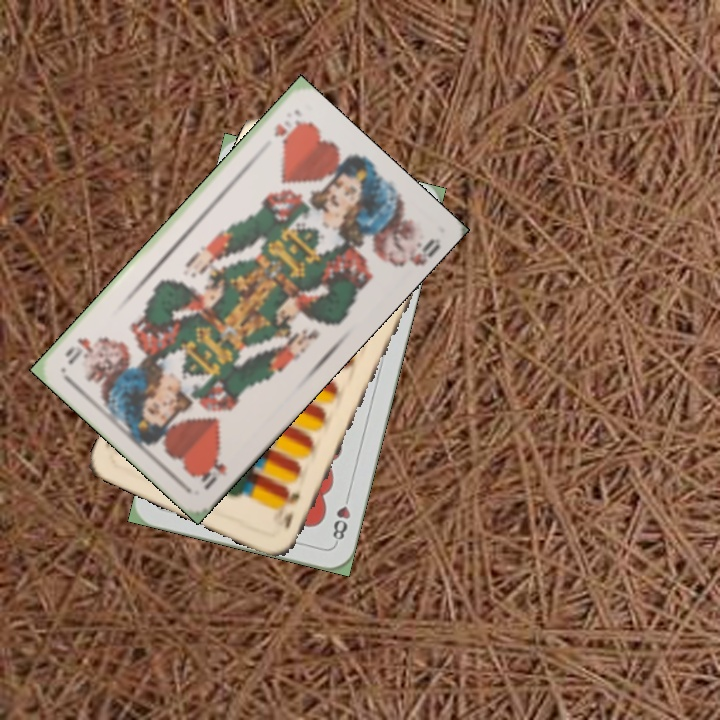E10: (280, 484, 303, 531)
H8: (328, 488, 353, 547)
HO: (193, 449, 230, 493), (270, 115, 304, 145)
